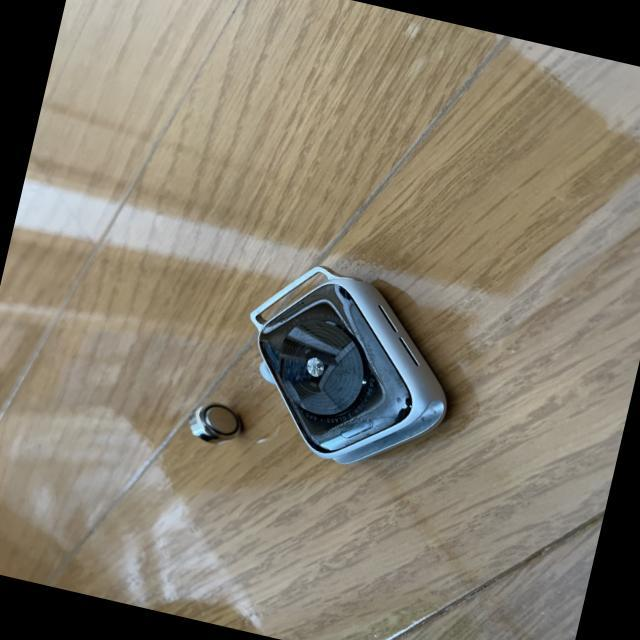COIN: (184, 396, 248, 448)
